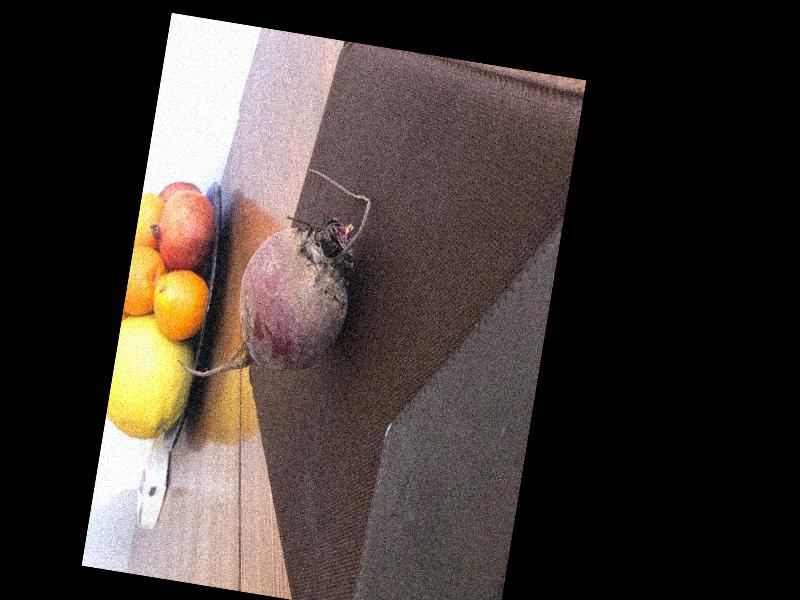Beet: (174, 151, 375, 400)
